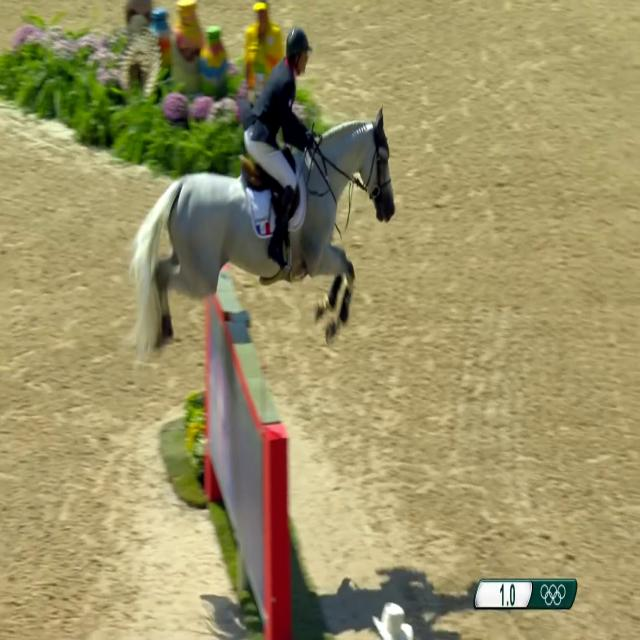Horse Jumping: (135, 101, 410, 417)
Horse Rider: (245, 0, 331, 279)
